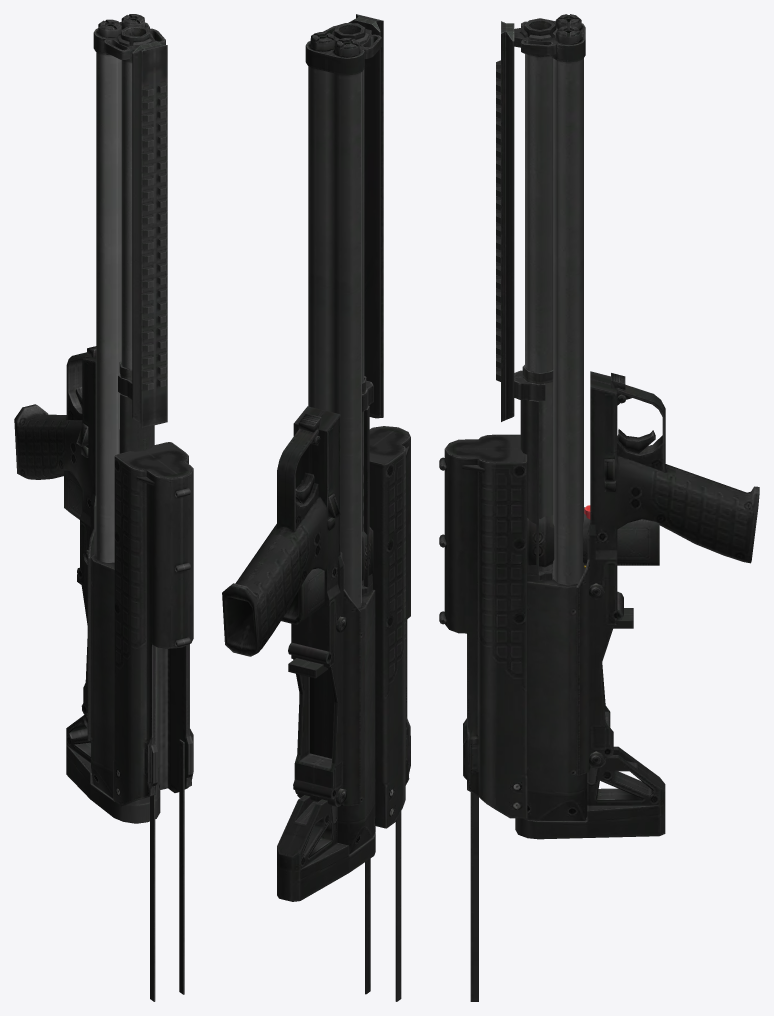
File: Kel_Tec_KSG_15.obj
3 renders of one model, left to right at view 1: azimuth 30°, elevation 25°; view 2: azimuth 150°, elevation 25°; view 3: azimuth 270°, elevation 25°, orthographic. The views are drawn at different scales.
Parts seen in each view (by area): view 1: Model_Kel-Tec, Model_Handle; view 2: Model_Kel-Tec, Model_Handle; view 3: Model_Kel-Tec, Model_Handle.
Part boxes in pixels (x1,y1,x2,y2): Model_Kel-Tec: (14,14,167,823); Model_Handle: (64,442,193,1001); Model_Kel-Tec: (222,14,383,901); Model_Handle: (281,426,410,1001); Model_Kel-Tec: (496,14,759,839); Model_Handle: (439,434,659,1001).
Size of the model in its own units: 0.0547 by 0.8417 by 0.2518.
Materials: 2 (2 with a texture image).
